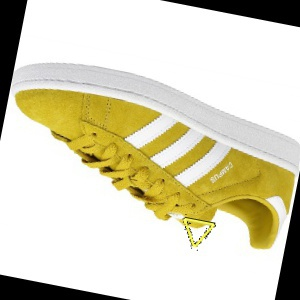triangle: (182, 214, 216, 249)
